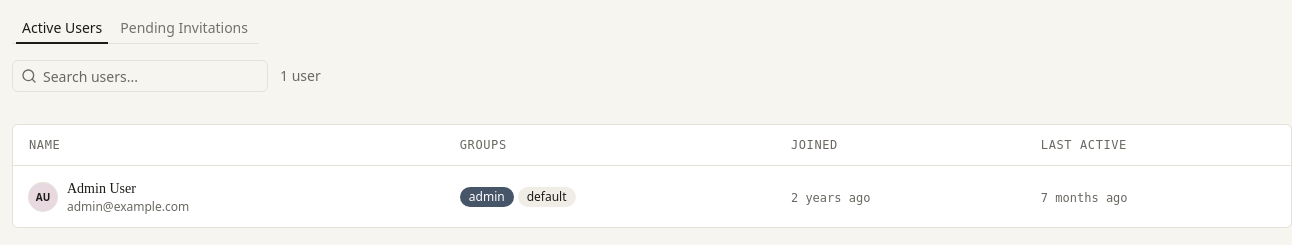
Test: AdminUserList › renders the filter strip as real tabs and filters the list on click
Check: the link "Admin User" is shown, box [67,181,136,196]
Click the tab "Pending Invitations": (184, 28) [113,16,255,40]
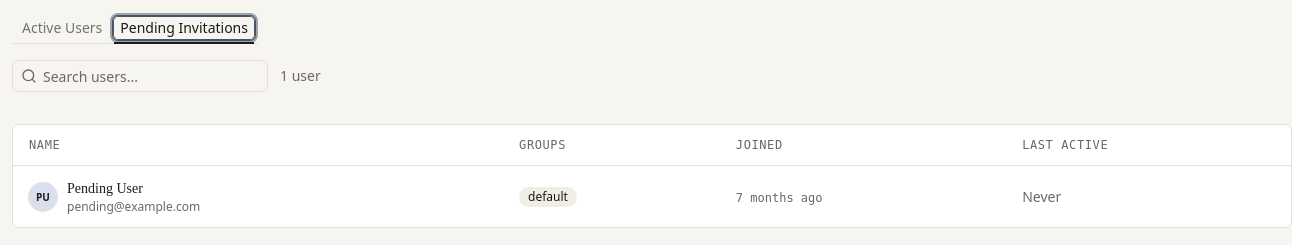
Check: the link "Pending User" is shown, box [67,181,143,196]
Check: the link "Admin User" is gone
